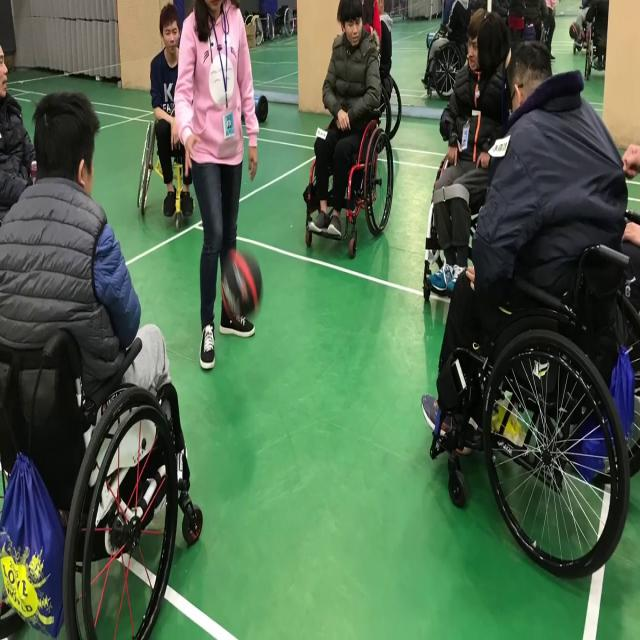wheelchairs: (425, 195, 640, 614), (0, 260, 211, 640), (297, 76, 410, 277), (130, 83, 229, 239), (417, 0, 498, 116)
